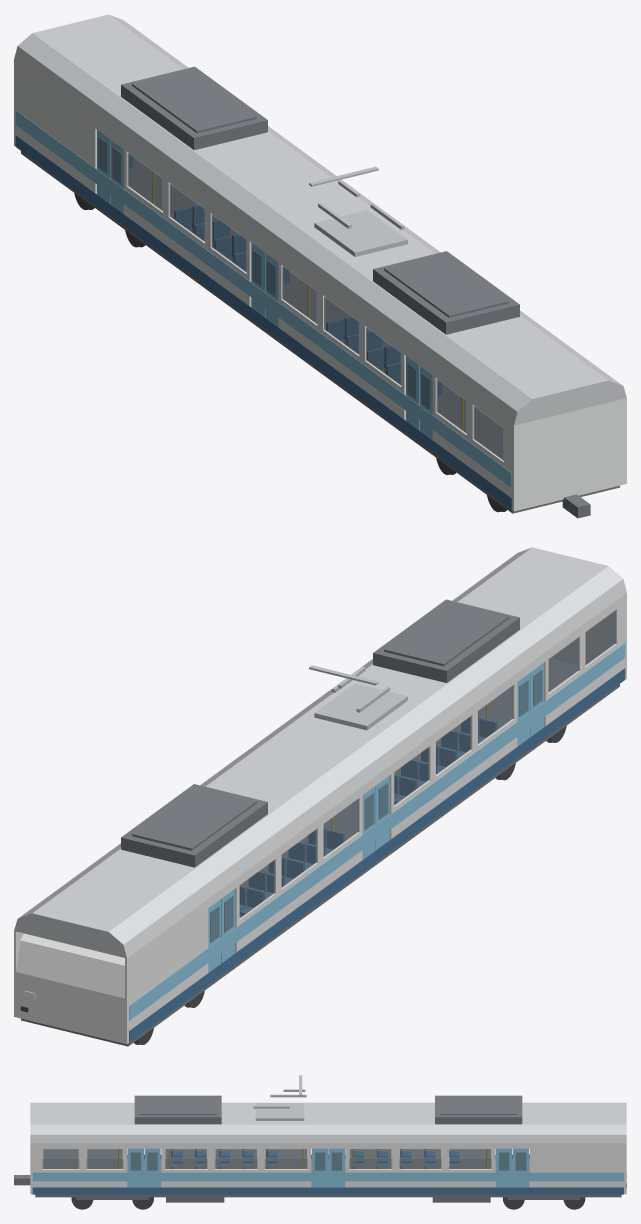
File: csr_roca_coche_motriz.glb
3 views of the same model, one above another, from view 1: azimuth 30°, elevation 25°; view 2: azimuth 150°, elevation 25°; view 3: azimuth 270°, elevation 25° (orthographic). The views are drawn at different scales.
Parts seen in each view (by area): view 1: Techo, Carroceria, Equipos_techo, Vidrios, Franja_celeste, Zocalo_azul, Interior_piso, Puertas, Interior_asientos, Pantografo, Bastidor; view 2: Techo, Carroceria, Equipos_techo, Vidrios, Franja_celeste, Zocalo_azul, Interior_asientos, Puertas, Pantografo, Interior_piso, Bastidor; view 3: Techo, Carroceria, Vidrios, Franja_celeste, Equipos_techo, Zocalo_azul, Puertas, Bastidor, Interior_piso, Interior_asientos, Pantografo, Bogie_1_bastidor (+1 smaller).
Part boxes in pixels (left/top/right/bottom): Techo: left=14, top=14, right=626, bottom=425; Carroceria: left=14, top=60, right=626, bottom=511; Equipos_techo: left=121, top=66, right=519, bottom=334; Vidrios: left=98, top=137, right=503, bottom=460; Franja_celeste: left=15, top=110, right=511, bottom=487; Zocalo_azul: left=15, top=135, right=511, bottom=509; Interior_piso: left=129, top=156, right=503, bottom=459; Puertas: left=97, top=130, right=432, bottom=439; Interior_asientos: left=129, top=153, right=442, bottom=394; Pantografo: left=309, top=166, right=407, bottom=256; Bastidor: left=21, top=151, right=619, bottom=513; Techo: left=14, top=547, right=626, bottom=958; Carroceria: left=14, top=593, right=626, bottom=1044; Equipos_techo: left=121, top=599, right=519, bottom=867; Vidrios: left=210, top=611, right=615, bottom=942; Franja_celeste: left=129, top=643, right=625, bottom=1020; Zocalo_azul: left=129, top=668, right=625, bottom=1042; Interior_asientos: left=239, top=717, right=497, bottom=915; Puertas: left=208, top=663, right=543, bottom=972; Pantografo: left=309, top=665, right=407, bottom=730; Interior_piso: left=239, top=658, right=577, bottom=917; Bastidor: left=21, top=684, right=619, bottom=1046; Techo: left=30, top=1102, right=626, bottom=1143; Carroceria: left=30, top=1143, right=626, bottom=1194; Vidrios: left=43, top=1149, right=526, bottom=1170; Franja_celeste: left=32, top=1172, right=623, bottom=1181; Equipos_techo: left=134, top=1095, right=522, bottom=1124; Zocalo_azul: left=32, top=1154, right=623, bottom=1194; Puertas: left=127, top=1148, right=528, bottom=1187; Bastidor: left=35, top=1194, right=621, bottom=1202; Interior_piso: left=42, top=1159, right=529, bottom=1187; Interior_asientos: left=171, top=1148, right=459, bottom=1168; Pantografo: left=253, top=1075, right=306, bottom=1120; Bogie_1_bastidor: left=507, top=1197, right=580, bottom=1199.
Size of the model in its own units: 3.23 by 5.28 by 25.3.
